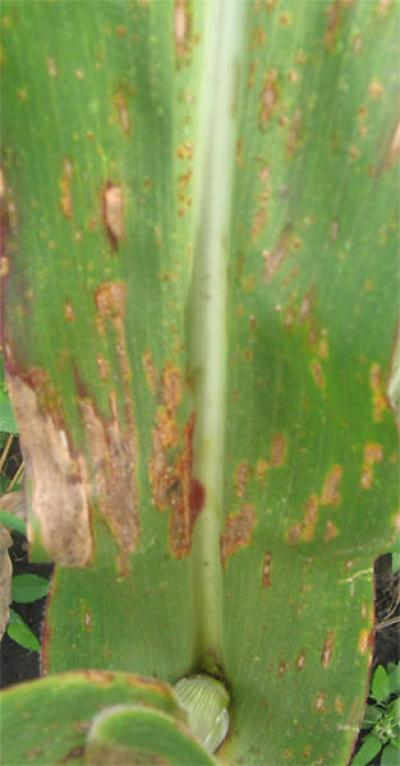Corn leaf blight: (7, 4, 400, 706)
